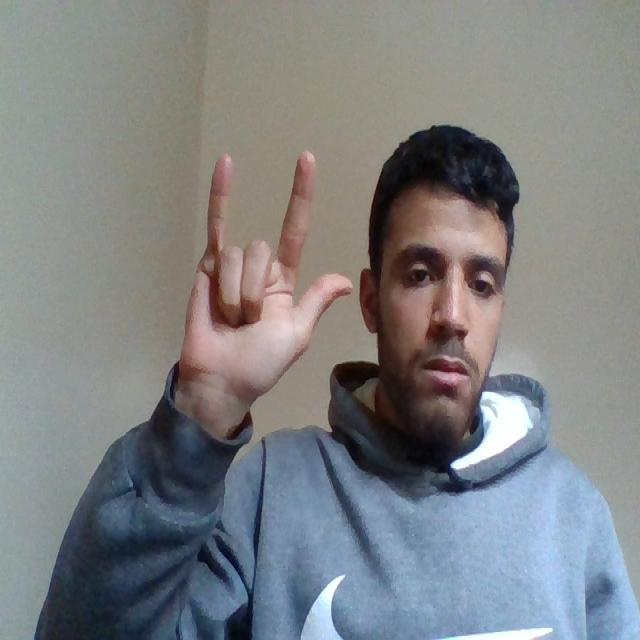I Love You: (171, 144, 352, 393)
